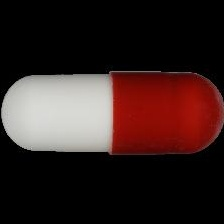68258-7980: (0, 0, 224, 224)
